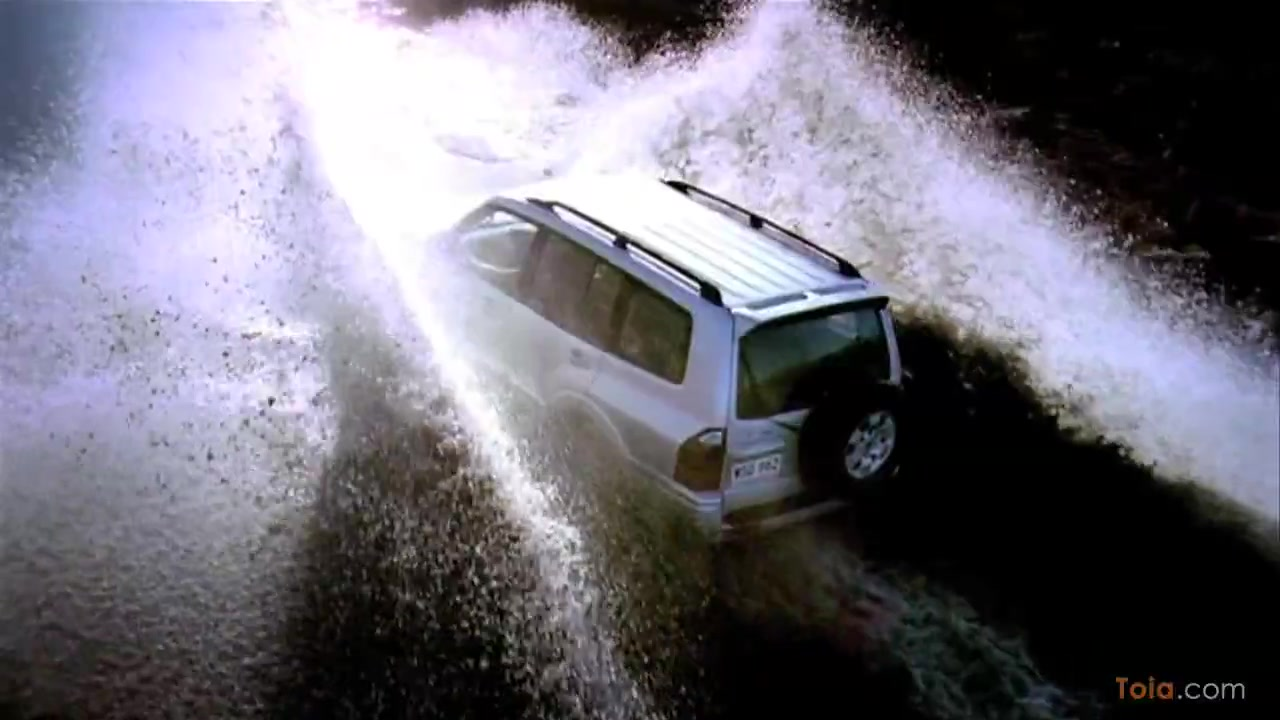car: (415, 160, 923, 554)
